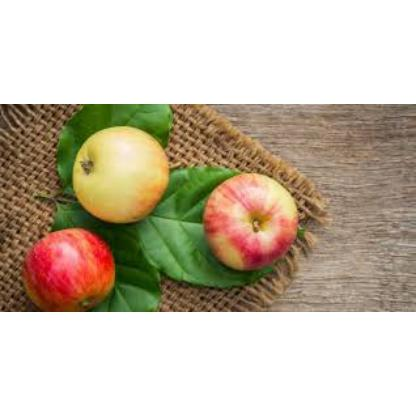apple: (74, 127, 168, 227), (202, 177, 300, 271), (17, 239, 115, 305)
